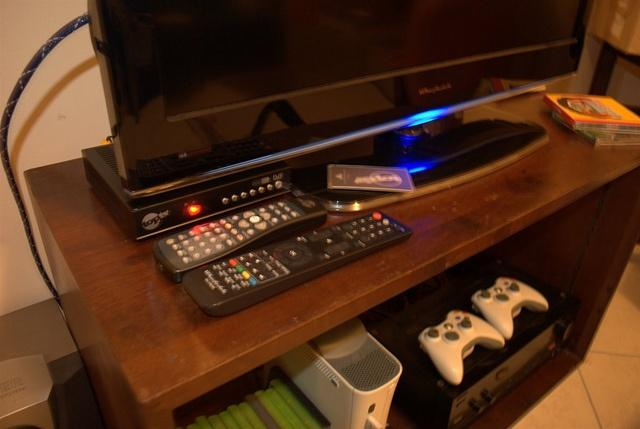AIO PC-Monitor-TV: (83, 0, 593, 198)
